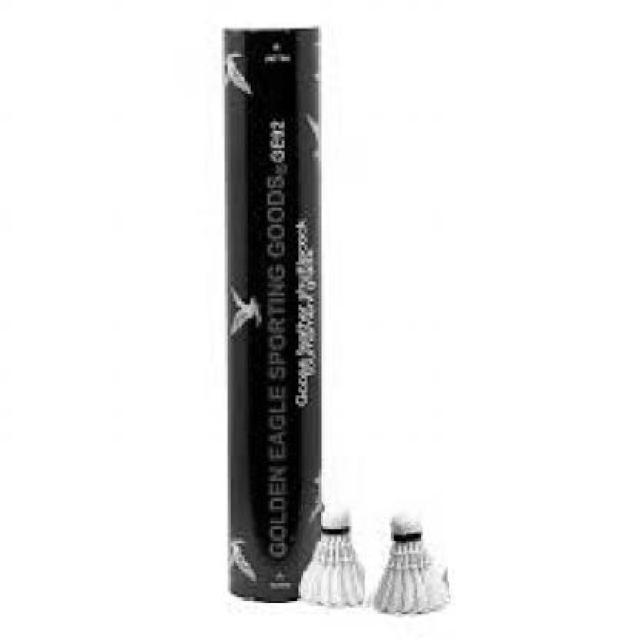Shuttlecock: (363, 509, 449, 614), (298, 505, 374, 606)
